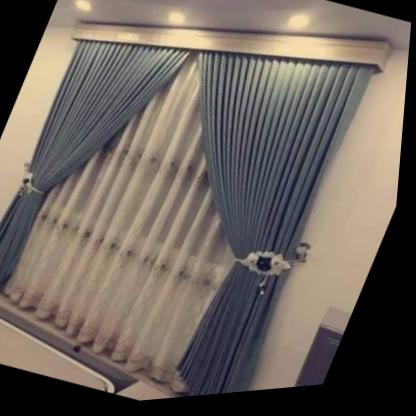Curtains: (0, 43, 382, 401)
